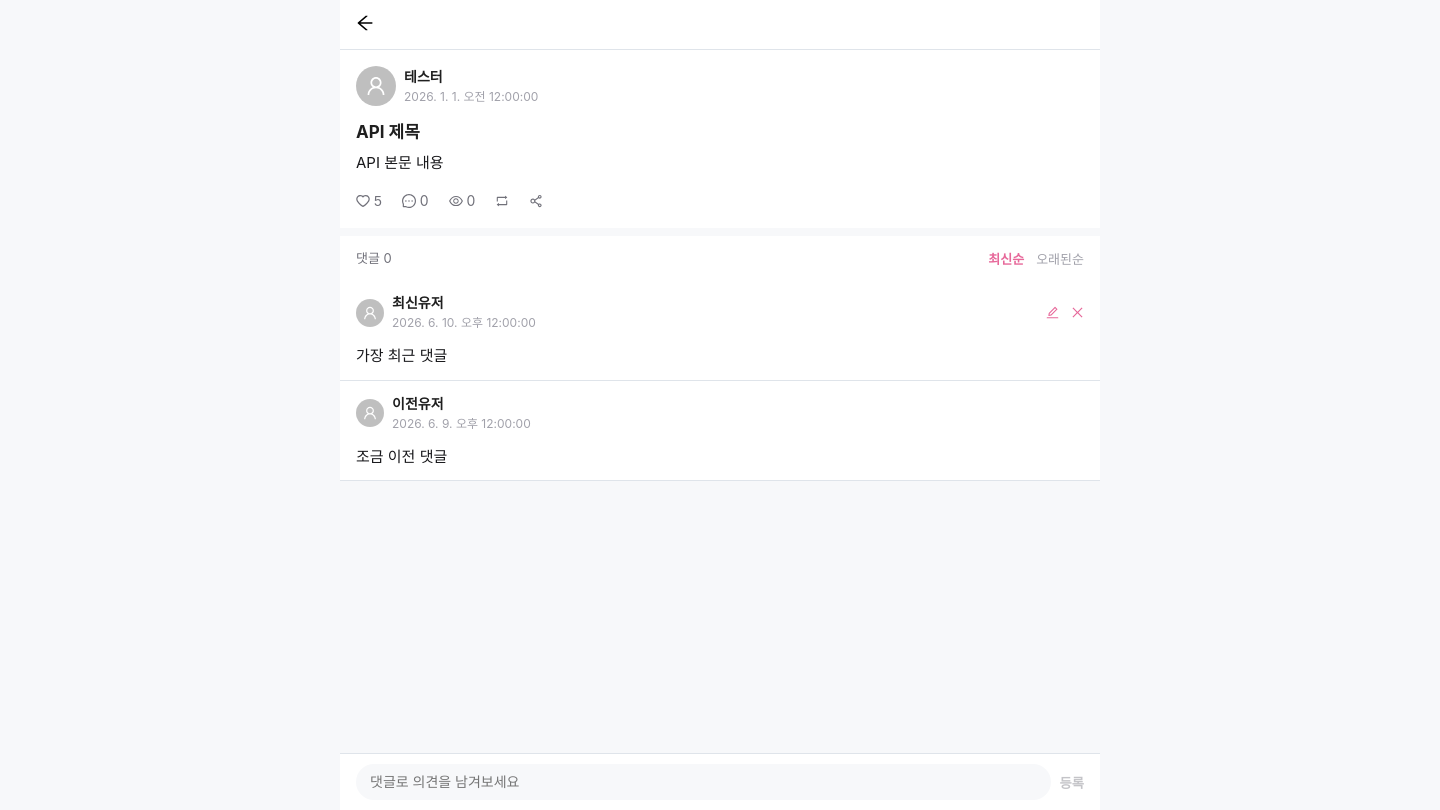
CommunityDetail › 편집 중 취소하면 요청 없이 원래 내용으로 돌아간다
Expected: the text "가장 최근 댓글" is shown, [356,346,447,365]
Click the button named "댓글 수정": (1052, 313) [1046,306,1059,319]
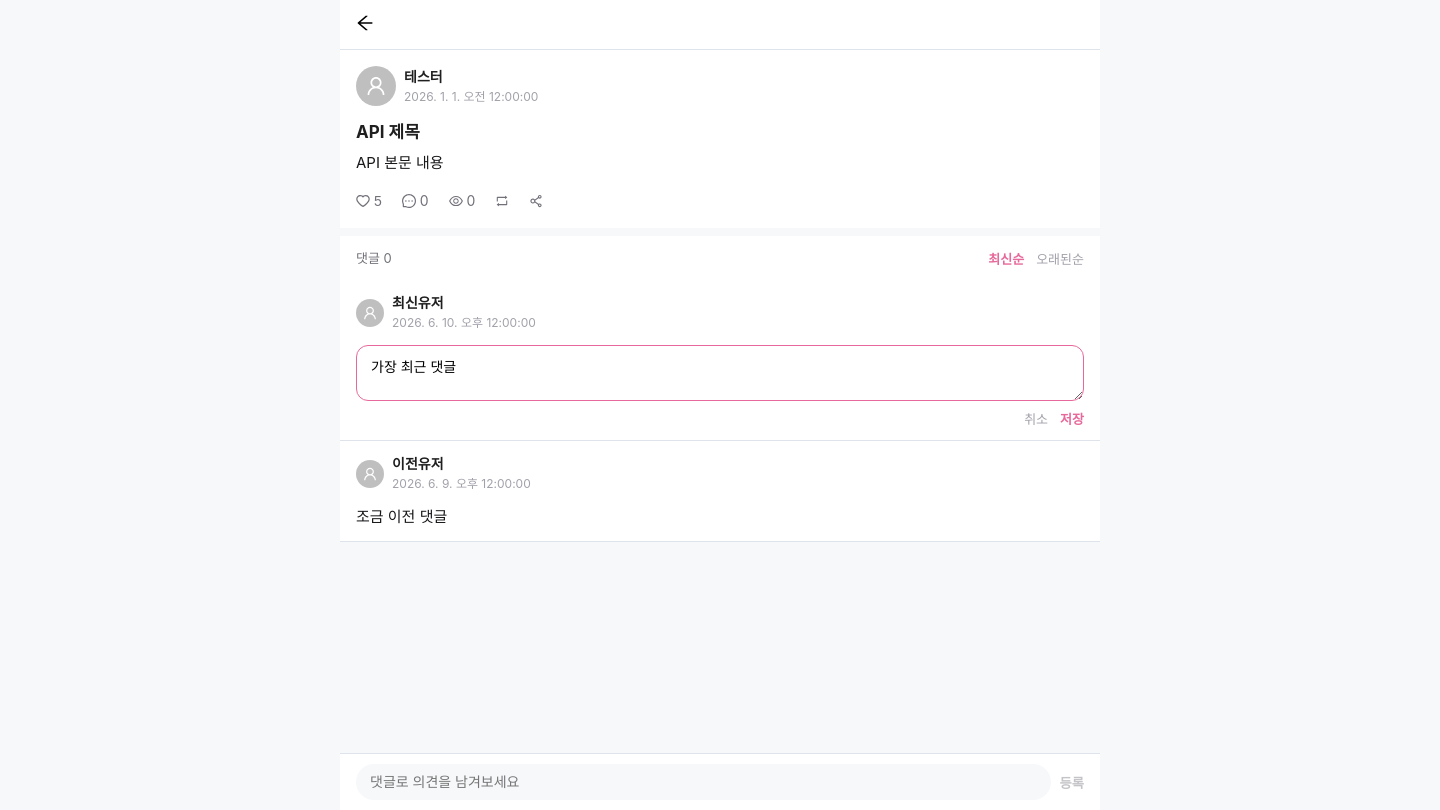
Replace the text in the text box showing "가장 최근 댓글" with "취소될 수정": (720, 373) [356,345,1084,401]
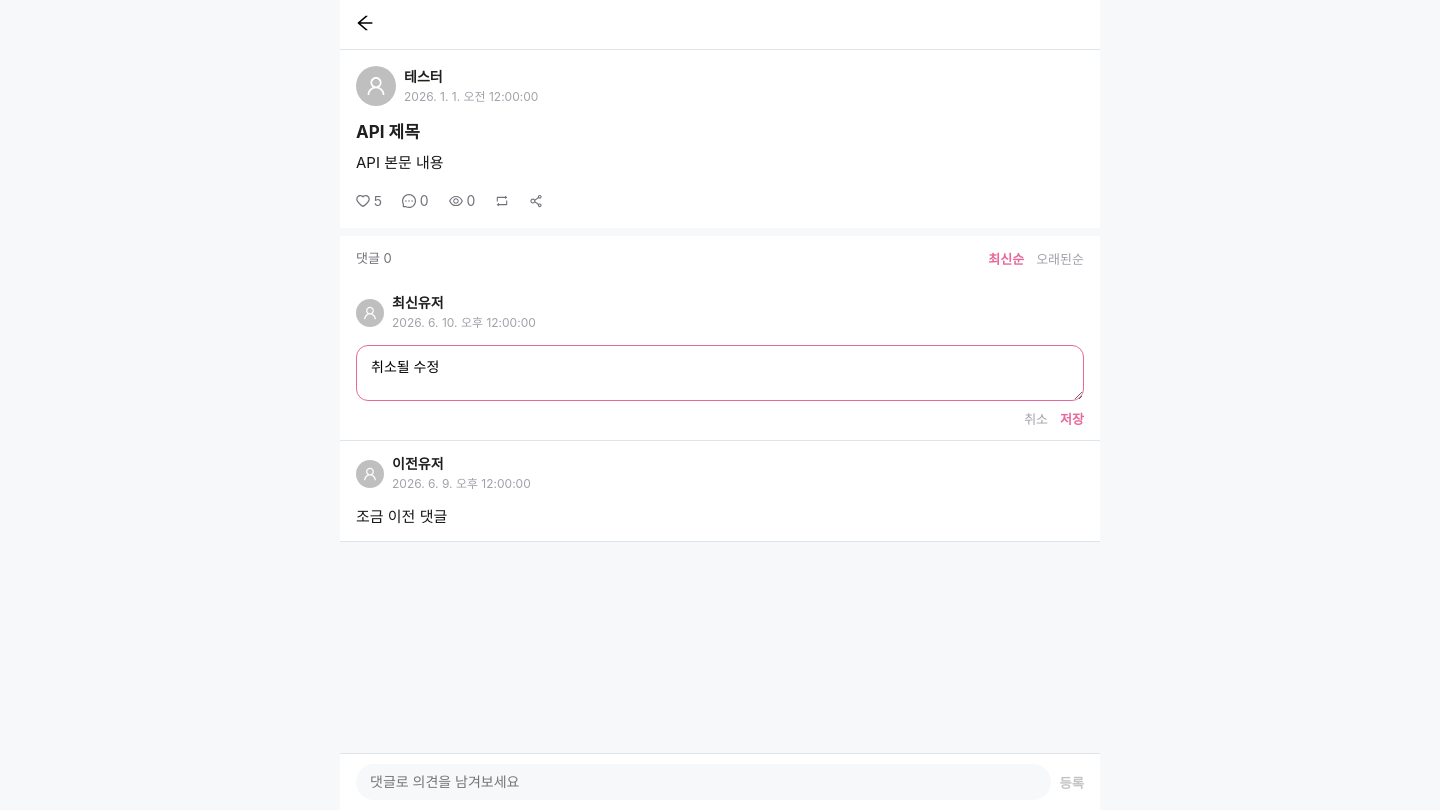
Click the button "취소": (1036, 419) [1024,409,1048,428]
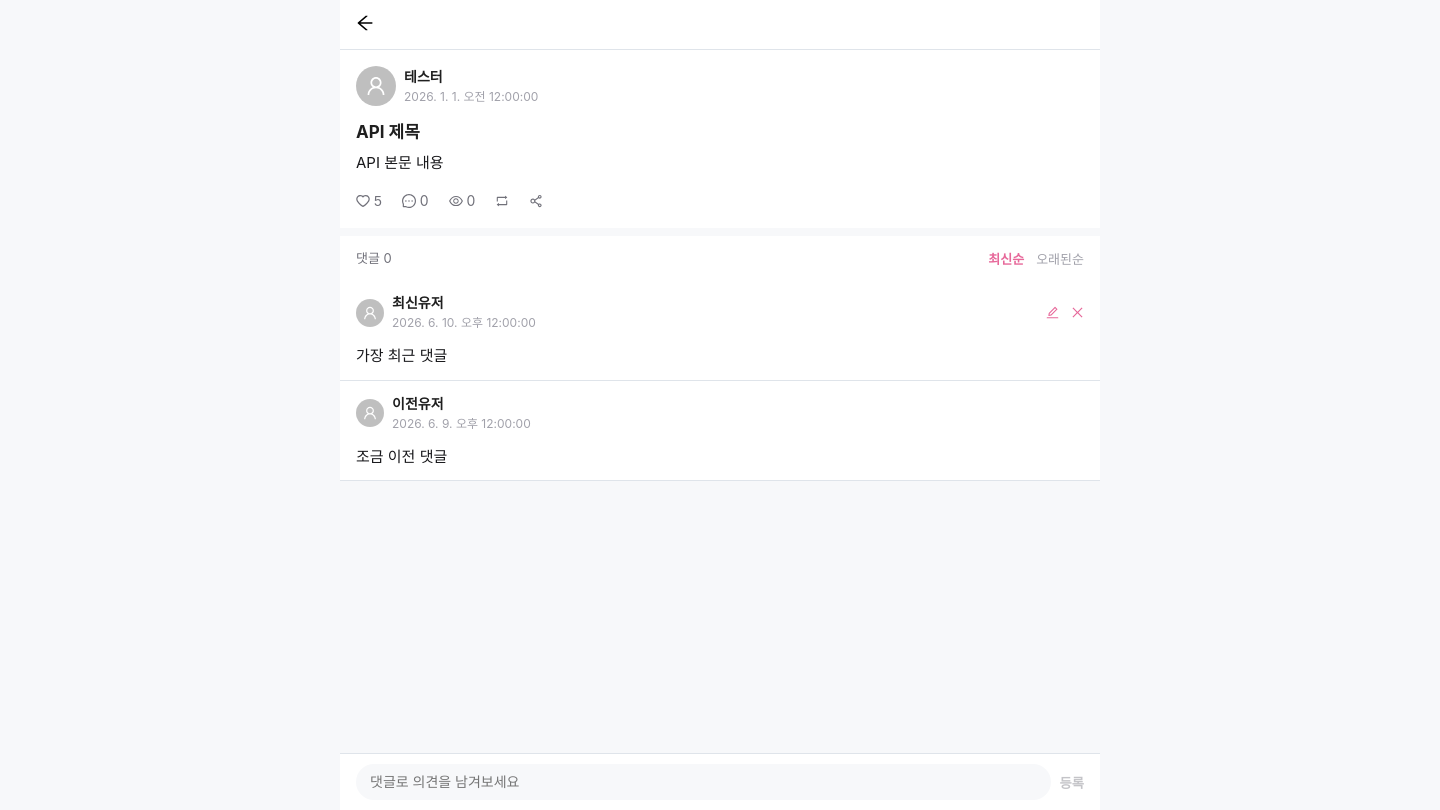
Expected: the button "저장" is gone
Expected: the text "가장 최근 댓글" is shown, [356,346,447,365]
